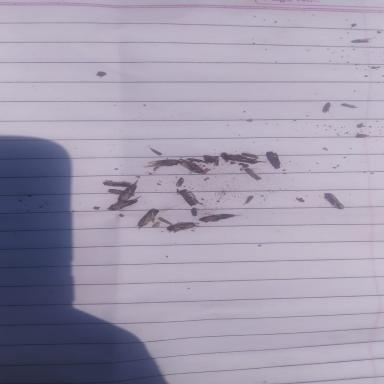pbw: (134, 206, 162, 230), (106, 195, 142, 210), (196, 213, 242, 223), (175, 158, 205, 173), (116, 180, 138, 200), (322, 192, 344, 210), (175, 188, 197, 206), (142, 158, 180, 168), (165, 221, 196, 232), (264, 150, 282, 168), (244, 167, 260, 180), (100, 180, 131, 186), (320, 101, 330, 112), (106, 188, 123, 194), (350, 38, 370, 43), (341, 103, 358, 108), (175, 177, 184, 186)
